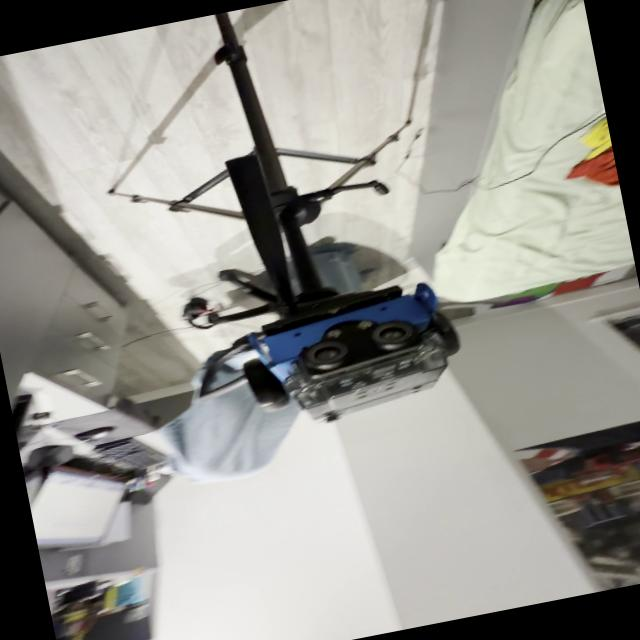mbot-detection: (222, 272, 478, 446)
